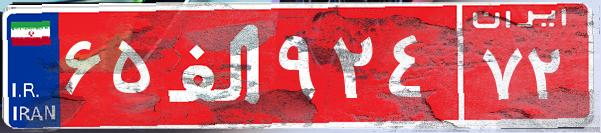2: (330, 28, 385, 110), (525, 38, 570, 115)
4: (385, 28, 445, 110)
5: (110, 28, 158, 105)
6: (57, 26, 110, 107)
7: (475, 38, 525, 113)
9: (273, 28, 330, 110)
الف: (158, 15, 273, 115)
